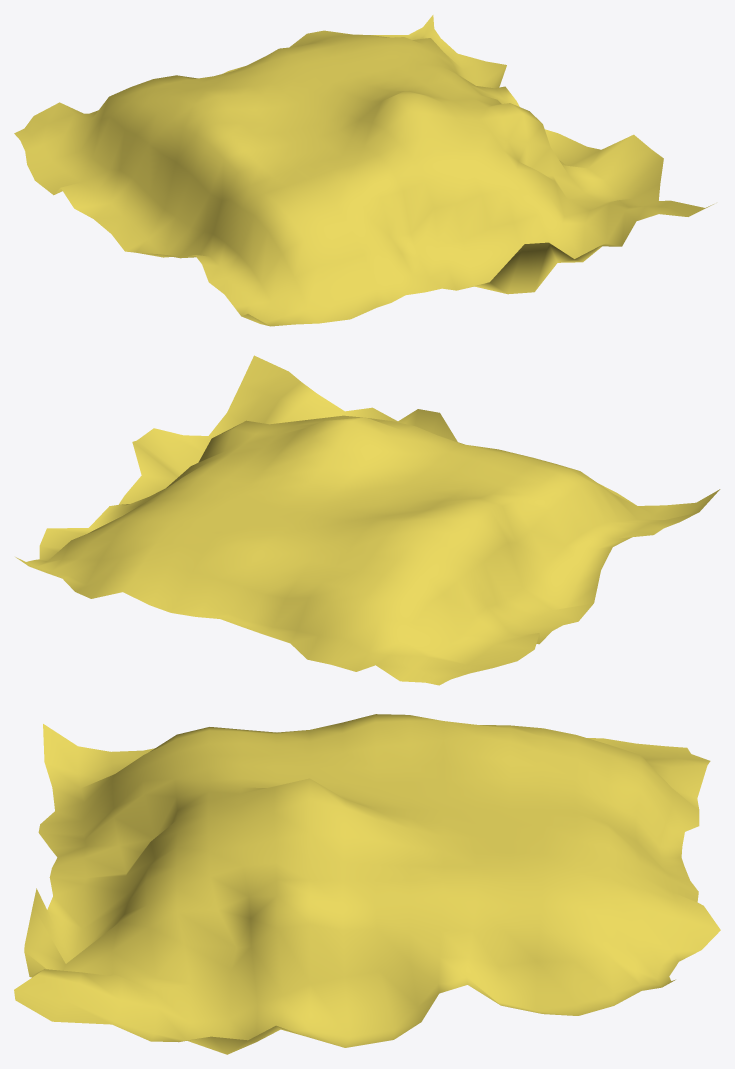
Rendered from FBX_ISLAND.fbx.
3 renders of one model, top to bottom at view 1: azimuth 30°, elevation 25°; view 2: azimuth 150°, elevation 25°; view 3: azimuth 270°, elevation 25°, orthographic. The views are drawn at different scales.
Parts seen in each view (by area): view 1: PRO_ISLAND; view 2: PRO_ISLAND; view 3: PRO_ISLAND.
Part boxes in pixels (x1=…): PRO_ISLAND: x1=14, y1=15, x2=713, y2=326; PRO_ISLAND: x1=15, y1=355, x2=720, y2=685; PRO_ISLAND: x1=14, y1=714, x2=720, y2=1054.
Size of the model in its own units: 1649 by 441 by 1611.
